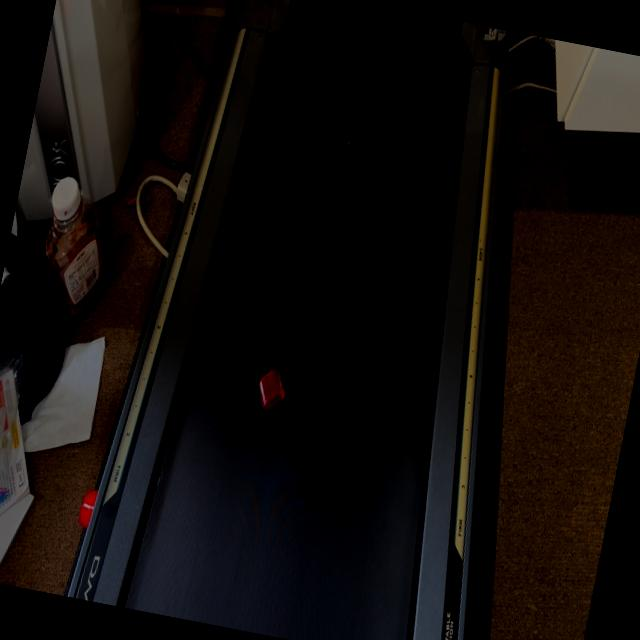Trash: (254, 366, 294, 424)
